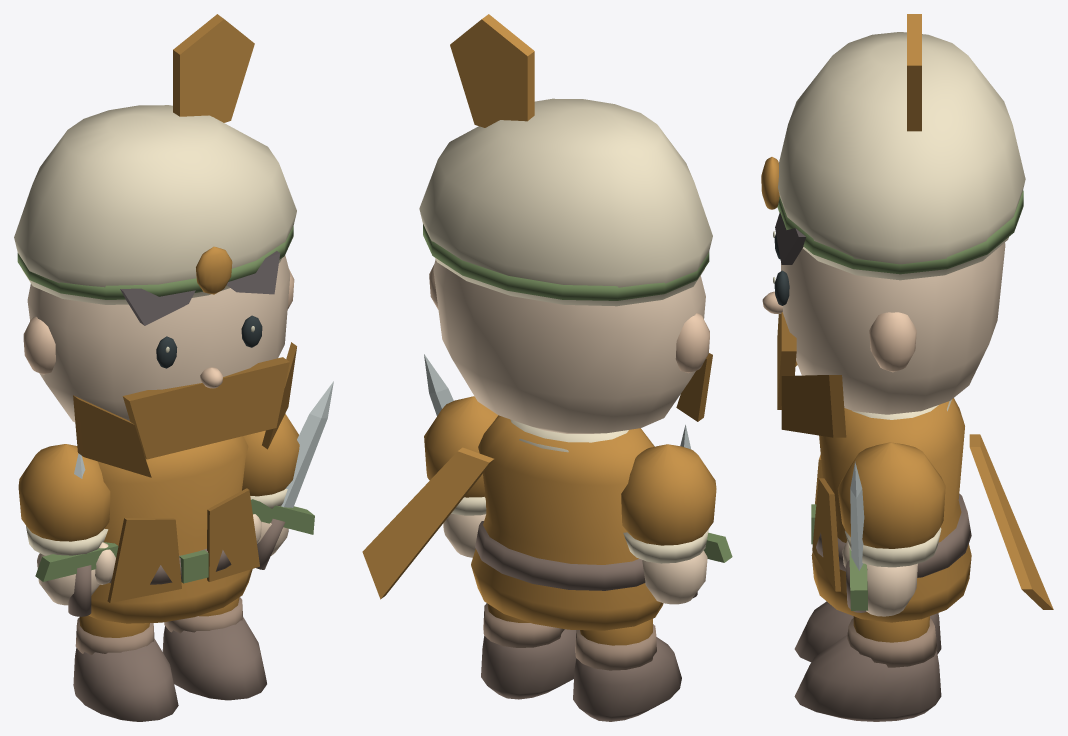
File: assassin.glb
3 renders of one model, left to right at view 1: azimuth 30°, elevation 25°; view 2: azimuth 150°, elevation 25°; view 3: azimuth 270°, elevation 25°, orthographic. The views are drawn at different scales.
Parts seen in each view (by area): view 1: Layered cloth turban, Soft cheek head, Short folded tunic, Soft face mask, Puff sleeve, Round leather boot, Turban fan, Round leather boot.001, Coat fold, Hood cheek cowl, Coat fold.001, Puff sleeve.001 (+20 smaller); view 2: Layered cloth turban, Soft cheek head, Short folded tunic, Puff sleeve, Turban fan, Long scarf tail, Round leather boot, Round leather boot.001, Broad leather belt, Turban wrapping, Puff sleeve.001, Little mitten (+10 smaller); view 3: Layered cloth turban, Soft cheek head, Short folded tunic, Puff sleeve.001, Round leather boot.001, Hood cheek cowl R, Long scarf tail, Turban wrapping, Ear.001, Little mitten.001, Boot turn cuff.001, Round leather boot (+10 smaller).
Part boxes in pixels (x1,y1,x2,y2): Layered cloth turban: [14, 105, 296, 304]; Soft cheek head: [27, 255, 290, 422]; Short folded tunic: [88, 436, 252, 623]; Soft face mask: [122, 357, 289, 459]; Puff sleeve: [18, 444, 110, 541]; Round leather boot: [73, 638, 178, 721]; Turban fan: [173, 14, 254, 122]; Round leather boot.001: [162, 617, 266, 700]; Coat fold: [107, 518, 181, 602]; Hood cheek cowl: [73, 395, 151, 477]; Coat fold.001: [207, 488, 259, 581]; Puff sleeve.001: [242, 414, 299, 496]; Layered cloth turban: [419, 98, 712, 306]; Soft cheek head: [433, 259, 705, 433]; Short folded tunic: [471, 415, 663, 630]; Puff sleeve: [621, 444, 716, 545]; Turban fan: [450, 14, 534, 127]; Long scarf tail: [362, 447, 493, 599]; Round leather boot: [573, 637, 681, 721]; Round leather boot.001: [481, 629, 576, 699]; Broad leather belt: [475, 521, 645, 590]; Turban wrapping: [423, 224, 709, 300]; Puff sleeve.001: [424, 396, 498, 497]; Little mitten: [642, 550, 707, 604]; Layered cloth turban: [778, 32, 1025, 280]; Soft cheek head: [781, 242, 1005, 414]; Short folded tunic: [811, 398, 971, 622]; Puff sleeve.001: [837, 442, 945, 548]; Round leather boot.001: [794, 634, 941, 721]; Hood cheek cowl R: [781, 375, 846, 437]; Long scarf tail: [969, 434, 1053, 609]; Turban wrapping: [777, 190, 1023, 274]; Ear.001: [869, 312, 916, 372]; Little mitten.001: [866, 563, 917, 616]; Boot turn cuff.001: [847, 618, 937, 667]; Round leather boot: [794, 601, 941, 662].
Size of the model in its own units: 0.8627 by 1.81 by 0.677.
